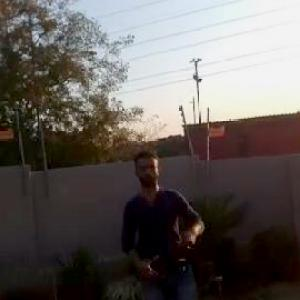follow: (112, 141, 214, 299)
